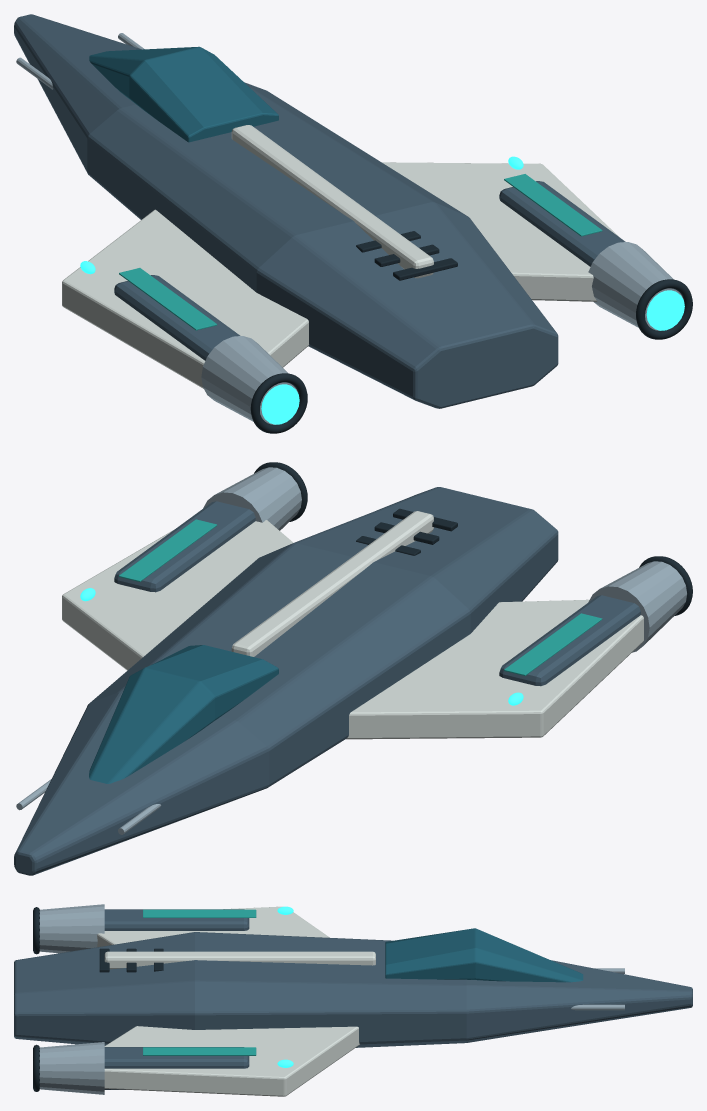
Rendered from haizea_scout.glb.
3 renders of one model, top to bottom at view 1: azimuth 30°, elevation 25°; view 2: azimuth 150°, elevation 25°; view 3: azimuth 270°, elevation 25°, orthographic. The views are drawn at different scales.
Visible parts, largest first — view 1: Geometry_haizea_scout; view 2: Geometry_haizea_scout; view 3: Geometry_haizea_scout.
Boxes of the visible parts, bbox=[...] form: Geometry_haizea_scout: bbox=[14, 14, 692, 433]; Geometry_haizea_scout: bbox=[14, 462, 692, 875]; Geometry_haizea_scout: bbox=[14, 904, 692, 1096].
Size of the model in its own units: 8.99 by 2.25 by 15.
